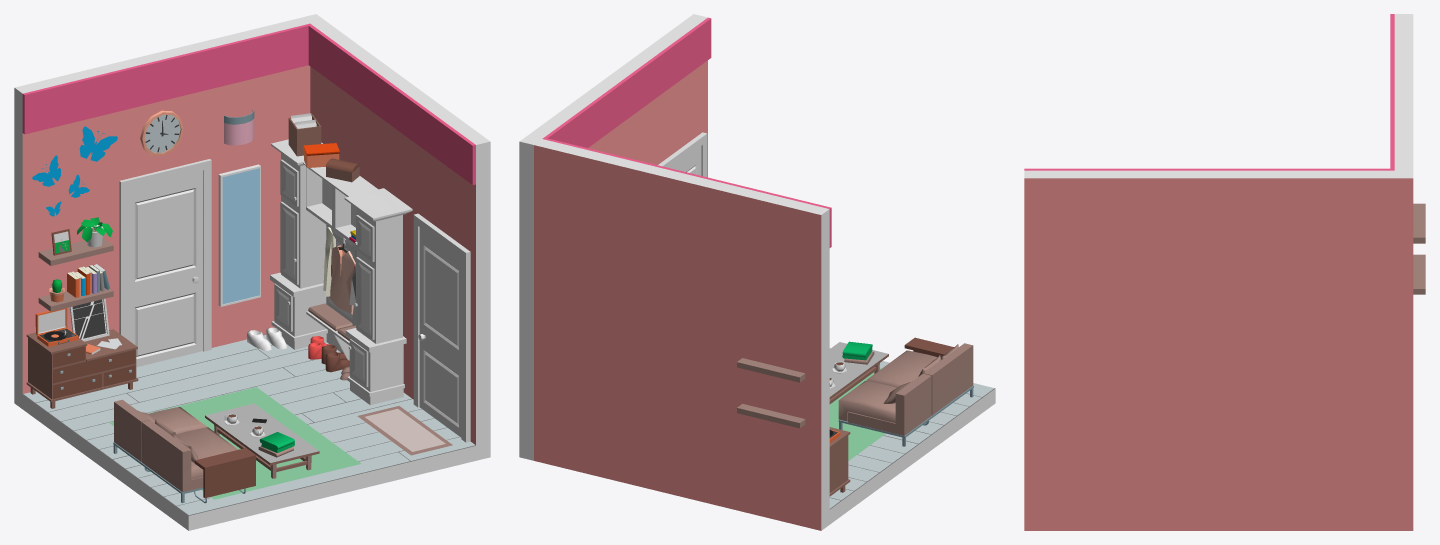
Rendered from room_24.glb.
3 renders of one model, left to right at view 1: azimuth 30°, elevation 25°; view 2: azimuth 150°, elevation 25°; view 3: azimuth 270°, elevation 25°, orthographic. The views are drawn at different scales.
Parts seen in each view (by area): view 1: Walls_133.007, closet_038.001, floor_012.003, Walls_133.008, door_017.003, Walls_129.001, Walls_046.008, sofa_013.001, door_017.004, Walls_129.002, picture_054.002, shelf_038.001 (+21 smaller); view 2: Walls_133.007, Walls_133.008, sofa_013.001, Walls_129.002, floor_012.003, Walls_046.008, coffee_table_019.003, shelf_038.001, carpet_013.002, Walls_129.001, door_018.004, shelf_003.006 (+2 smaller); view 3: Walls_133.008, Walls_133.007, Walls_129.002, Walls_129.001, shelf_003.006, shelf_003.007.
Boxes of the visible parts, x1=… form: Walls_133.007: x1=14, y1=17, x2=310, y2=408; closet_038.001: x1=270, y1=139, x2=412, y2=405; floor_012.003: x1=23, y1=335, x2=475, y2=514; Walls_133.008: x1=302, y1=14, x2=490, y2=460; door_017.003: x1=128, y1=170, x2=203, y2=367; Walls_129.001: x1=22, y1=23, x2=311, y2=134; Walls_046.008: x1=22, y1=343, x2=475, y2=530; sofa_013.001: x1=113, y1=399, x2=255, y2=503; door_017.004: x1=418, y1=227, x2=461, y2=437; Walls_129.002: x1=307, y1=23, x2=475, y2=184; picture_054.002: x1=218, y1=164, x2=260, y2=306; shelf_038.001: x1=26, y1=329, x2=138, y2=408; Walls_133.007: x1=534, y1=139, x2=829, y2=530; Walls_133.008: x1=519, y1=14, x2=707, y2=460; sofa_013.001: x1=838, y1=337, x2=973, y2=446; Walls_129.002: x1=543, y1=17, x2=711, y2=147; floor_012.003: x1=829, y1=348, x2=994, y2=508; Walls_046.008: x1=829, y1=388, x2=995, y2=524; coffee_table_019.003: x1=829, y1=342, x2=888, y2=404; shelf_038.001: x1=829, y1=427, x2=850, y2=496; carpet_013.002: x1=829, y1=368, x2=885, y2=460; Walls_129.001: x1=542, y1=138, x2=831, y2=247; door_018.004: x1=658, y1=132, x2=707, y2=176; shelf_003.006: x1=737, y1=403, x2=805, y2=428; Walls_133.008: x1=1024, y1=170, x2=1413, y2=530; Walls_133.007: x1=1394, y1=14, x2=1413, y2=170; Walls_129.002: x1=1024, y1=168, x2=1394, y2=170; Walls_129.001: x1=1390, y1=14, x2=1394, y2=170; shelf_003.006: x1=1413, y1=254, x2=1425, y2=294; shelf_003.007: x1=1413, y1=203, x2=1425, y2=243.
Bounding box in the file's own units: 4.2 × 4.2 × 4.34.
Materials: 1 (1 with a texture image).
